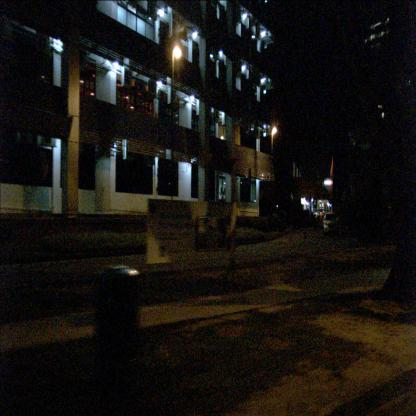human-pedestrian-adult: (318, 210, 323, 224), (314, 210, 318, 226)
vehicle-car: (323, 213, 339, 233)
